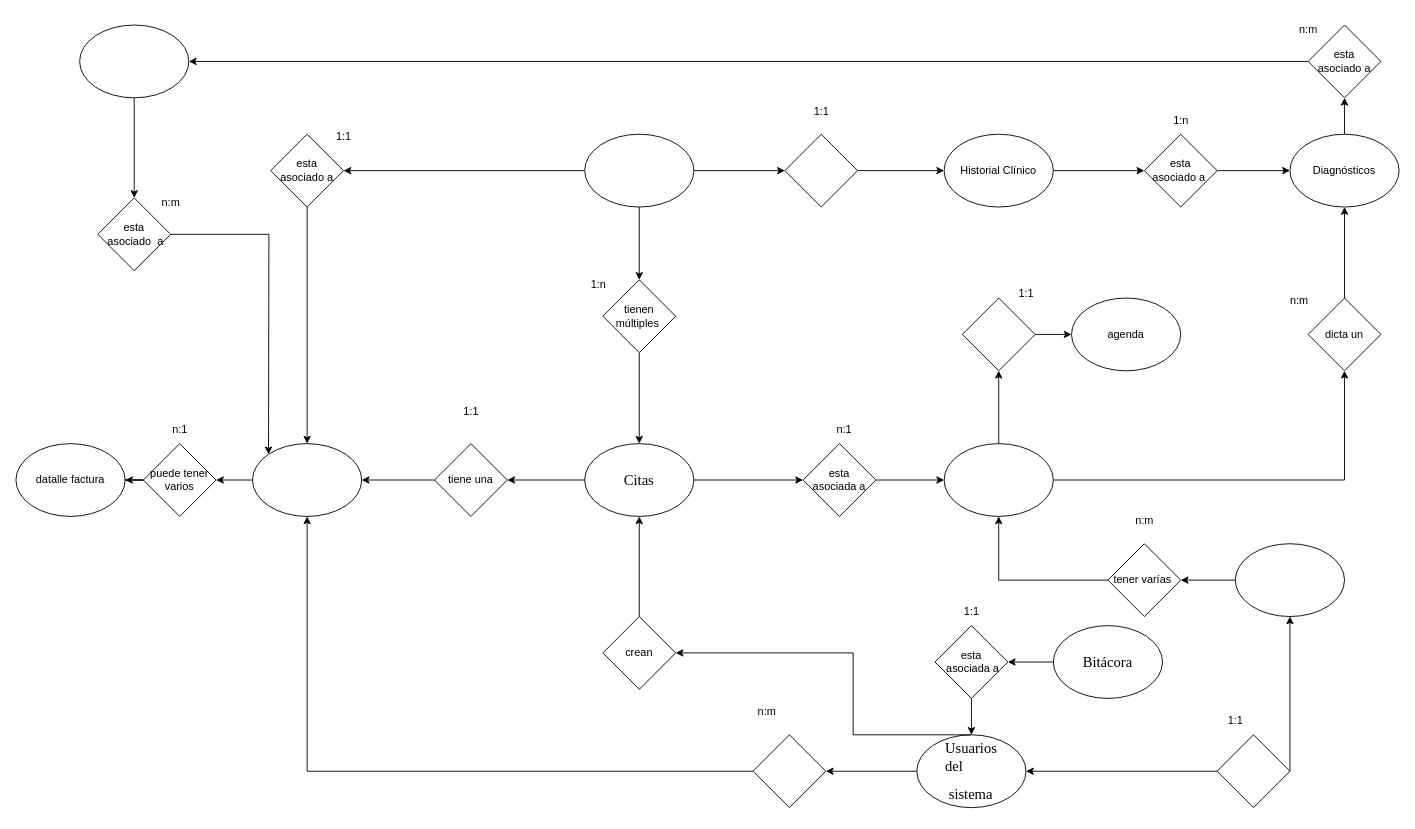
Image size: 1415x829. Some labels were removed from this diagram. Each missing label, with the box of its shape:
confeccionan: (752, 734, 826, 808)
Especialista: (943, 443, 1053, 516)
Factura: (252, 443, 362, 516)
Funcionarios: (1234, 543, 1345, 617)
Medicamentos: (79, 24, 189, 98)
Pacientes: (584, 133, 694, 207)
tener un: (1216, 734, 1290, 808)
tienen un: (784, 133, 858, 207)
tienen una: (961, 297, 1035, 371)
